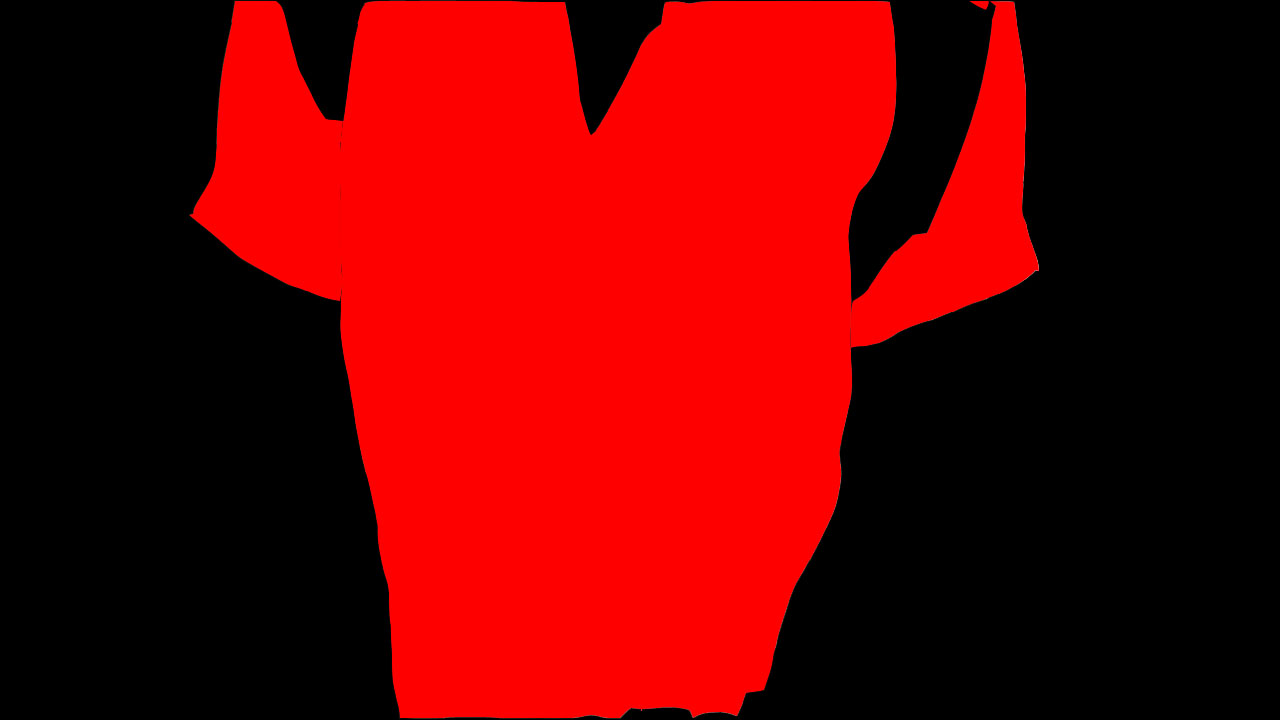uniforme_ifmt: (195, 7, 1046, 720)
